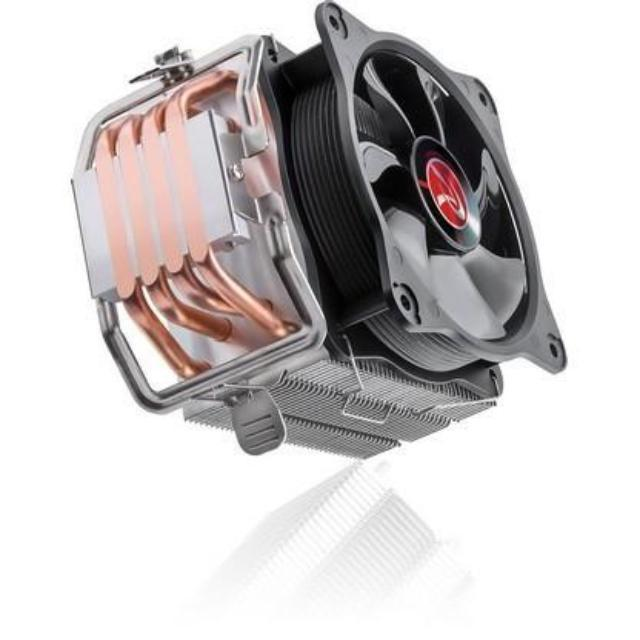CPU_Fan: (65, 2, 568, 464)
